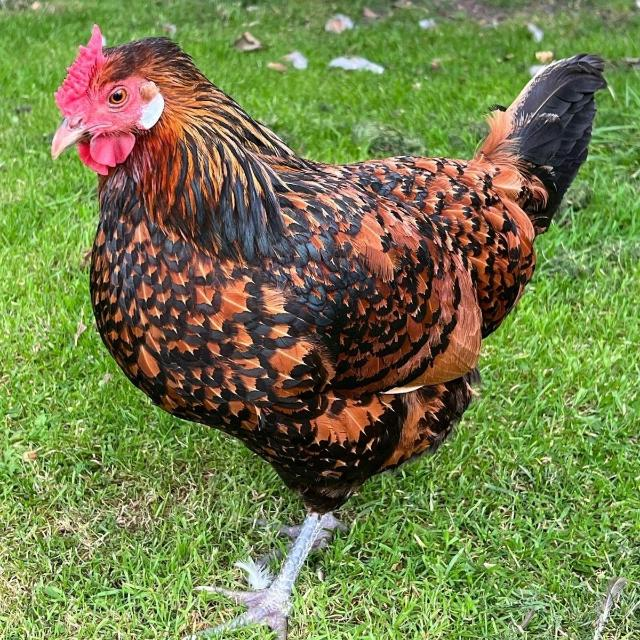Chicken: (51, 24, 607, 640)
